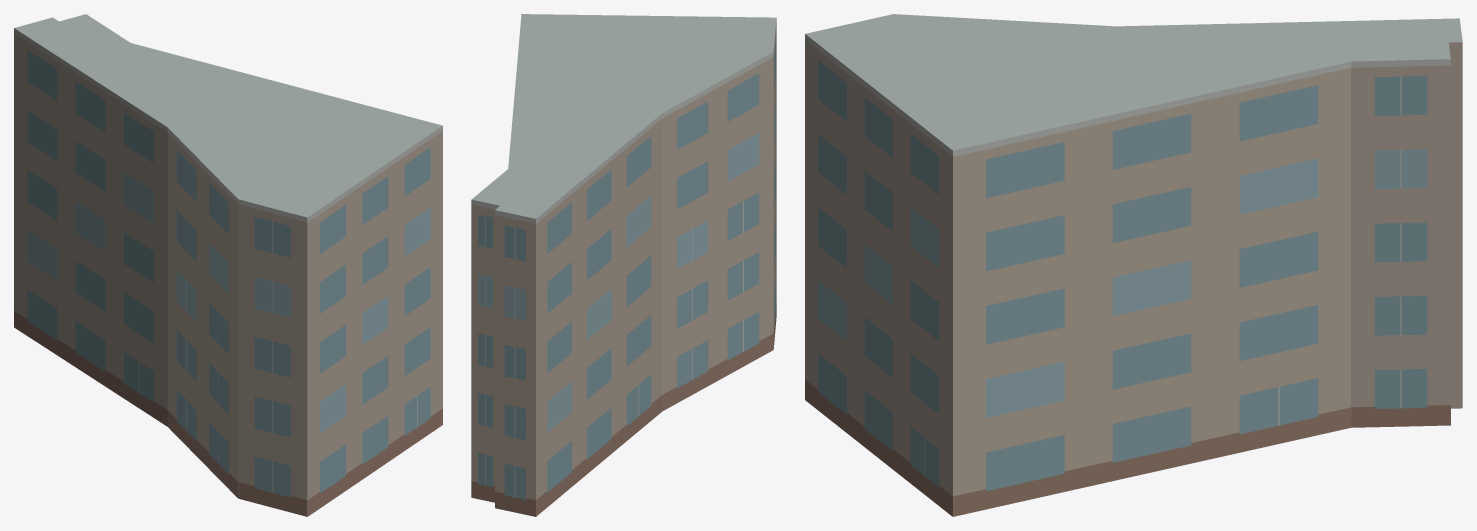
File: survey-upis-32604955.glb
The picture shows the model from 3 angles, left to right: view 1: azimuth 30°, elevation 25°; view 2: azimuth 150°, elevation 25°; view 3: azimuth 270°, elevation 25°; orthographic projection. The views are drawn at different scales.
Visible parts, largest first — view 1: survey-upis-32604955.tmp; view 2: survey-upis-32604955.tmp; view 3: survey-upis-32604955.tmp.
Boxes of the visible parts, x1,y1,x2,y2 form: survey-upis-32604955.tmp: (14, 14, 442, 516); survey-upis-32604955.tmp: (471, 14, 776, 516); survey-upis-32604955.tmp: (805, 14, 1462, 516).
Bounding box in the file's own units: 11.45 × 14.3 × 23.29.
